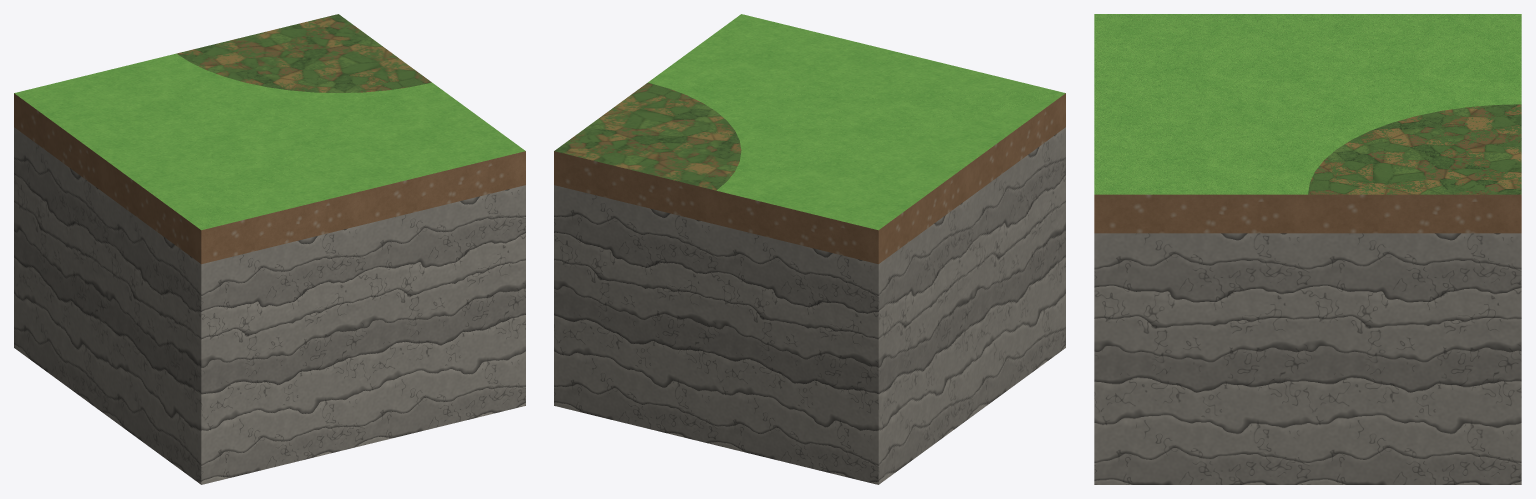
File: Forest_OuterCorner_U.fbx
3 views of the same model, side by side, from view 1: azimuth 30°, elevation 25°; view 2: azimuth 150°, elevation 25°; view 3: azimuth 270°, elevation 25° (orthographic). The views are drawn at different scales.
Parts seen in each view (by area): view 1: Forest_OuterCorner_U; view 2: Forest_OuterCorner_U; view 3: Forest_OuterCorner_U.
Part boxes in pixels (x1=…): Forest_OuterCorner_U: x1=14, y1=14, x2=525, y2=484; Forest_OuterCorner_U: x1=554, y1=14, x2=1065, y2=484; Forest_OuterCorner_U: x1=1094, y1=14, x2=1521, y2=484.
Size of the model in its own units: 3 by 2.25 by 3.
Materials: 4 (4 with a texture image).
